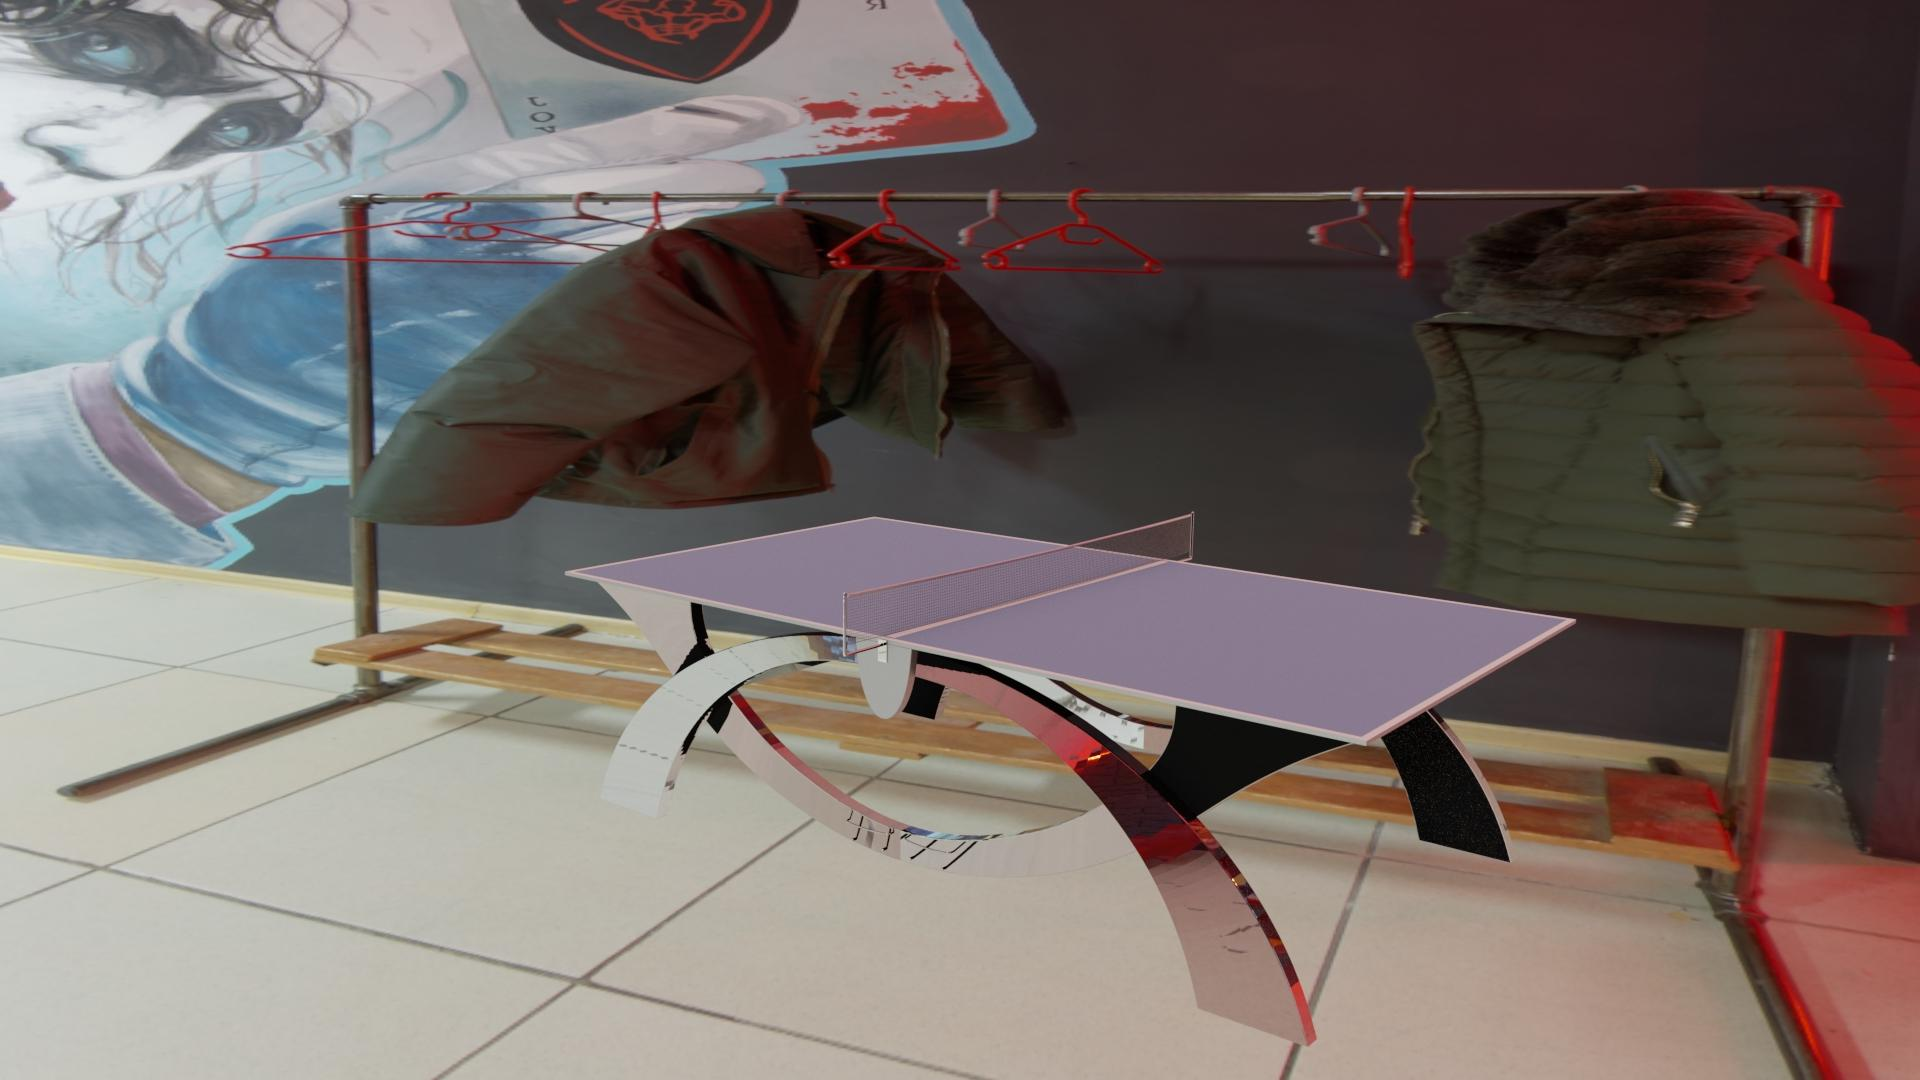table: (574, 518, 1567, 737)
